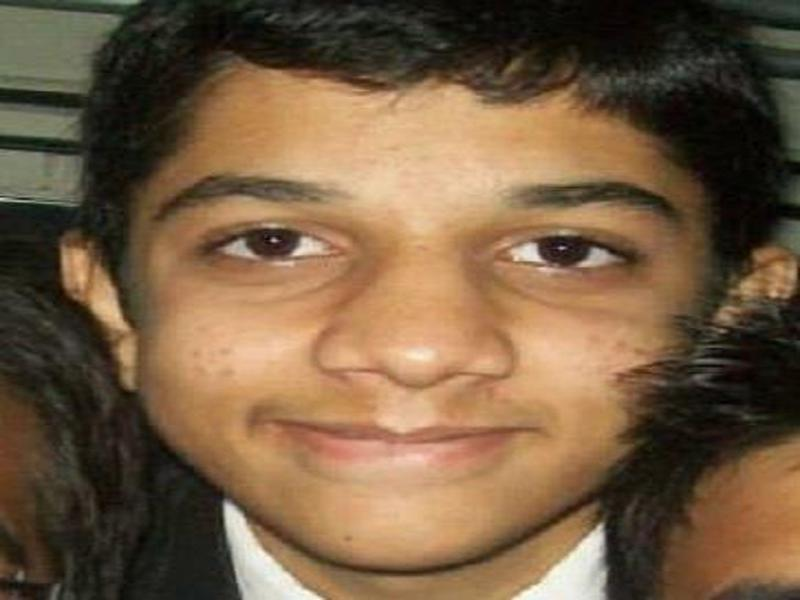without_mask: (125, 101, 699, 576)
